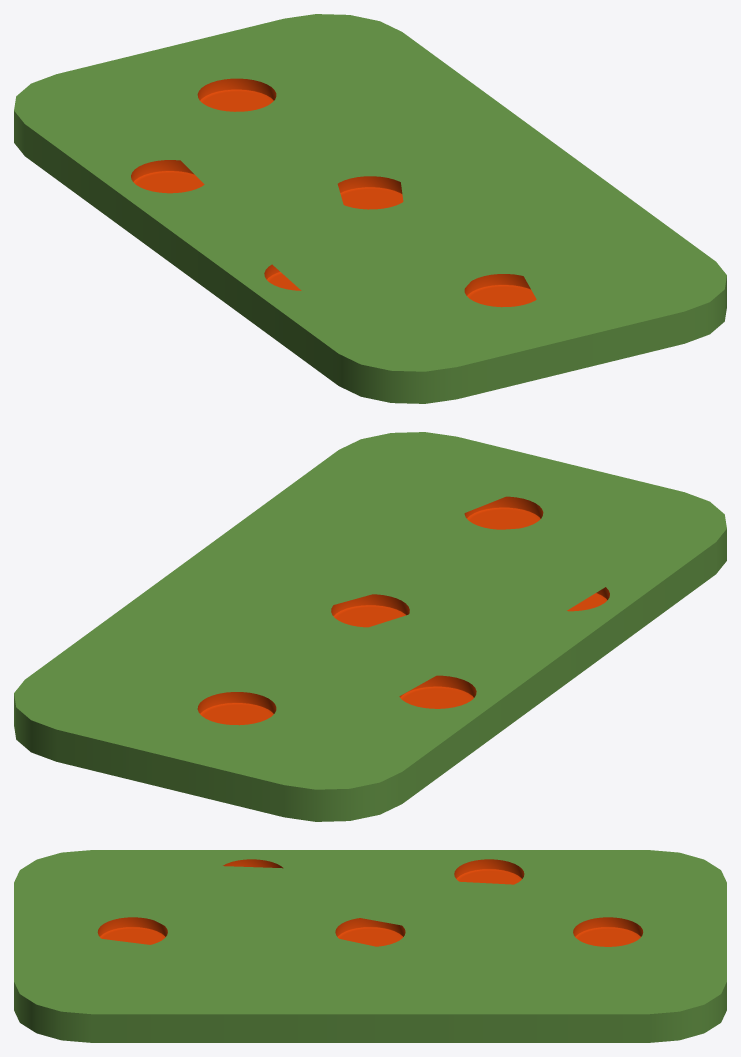
Rendered from PieceWaitZoneRough.fbx.
3 views of the same model, one above another, from view 1: azimuth 30°, elevation 25°; view 2: azimuth 150°, elevation 25°; view 3: azimuth 270°, elevation 25° (orthographic). The views are drawn at different scales.
Parts seen in each view (by area): view 1: PieceWaitZone; view 2: PieceWaitZone; view 3: PieceWaitZone.
Boxes of the visible parts, box(x1,y1,x2,y2) form: PieceWaitZone: box(14, 14, 726, 403); PieceWaitZone: box(14, 432, 726, 821); PieceWaitZone: box(14, 850, 726, 1042).
Bounding box in the file's own units: 490 × 40 × 900.
